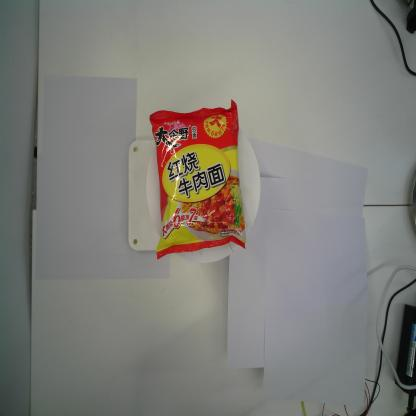Instant Noodles: (150, 98, 246, 260)
